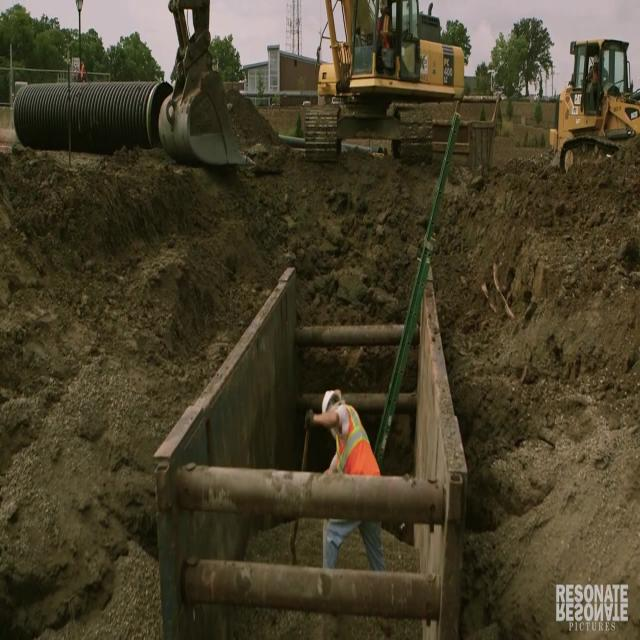Reflective-Jacket: (329, 398, 385, 483), (376, 11, 396, 57)
Safety-Helmet: (314, 381, 347, 413)
